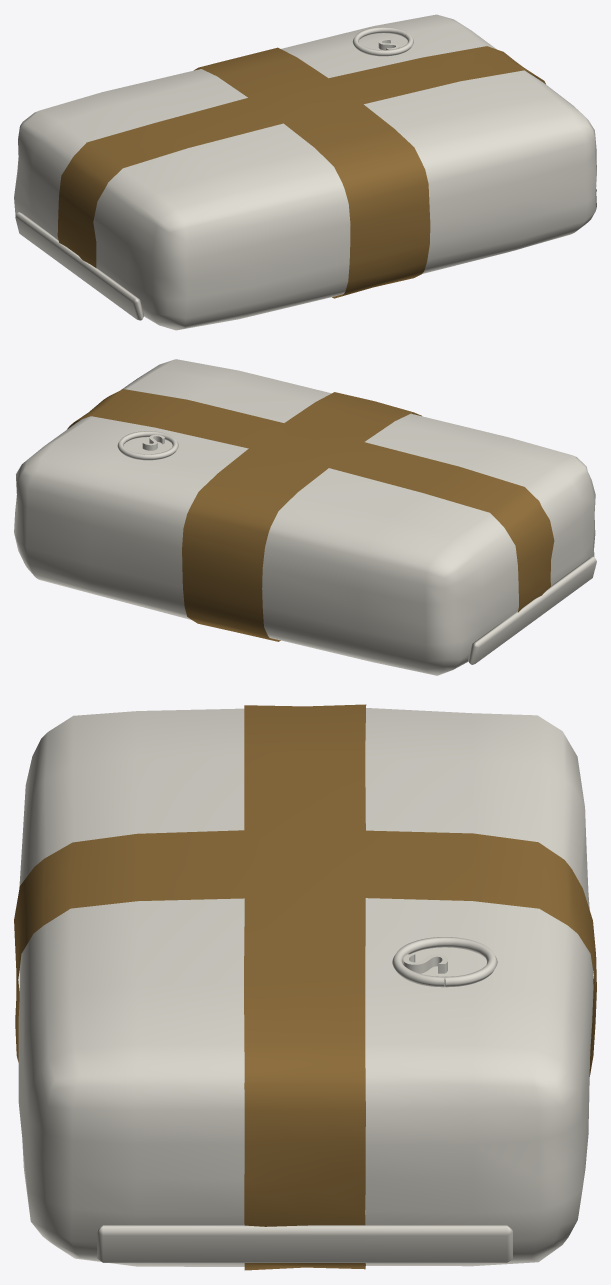
File: cegla.glb
3 renders of one model, top to bottom at view 1: azimuth 30°, elevation 25°; view 2: azimuth 150°, elevation 25°; view 3: azimuth 270°, elevation 25°, orthographic. The views are drawn at different scales.
Parts seen in each view (by area): view 1: TintCegla, Tasma; view 2: TintCegla, Tasma; view 3: TintCegla, Tasma.
Boxes of the visible parts, x1=… form: TintCegla: x1=14, y1=14, x2=596, y2=330; Tasma: x1=57, y1=46, x2=545, y2=298; TintCegla: x1=14, y1=359, x2=596, y2=675; Tasma: x1=67, y1=389, x2=554, y2=641; TintCegla: x1=18, y1=708, x2=593, y2=1266; Tasma: x1=14, y1=704, x2=596, y2=1270.
Size of the model in its own units: 0.2441 by 0.0743 by 0.1543.
